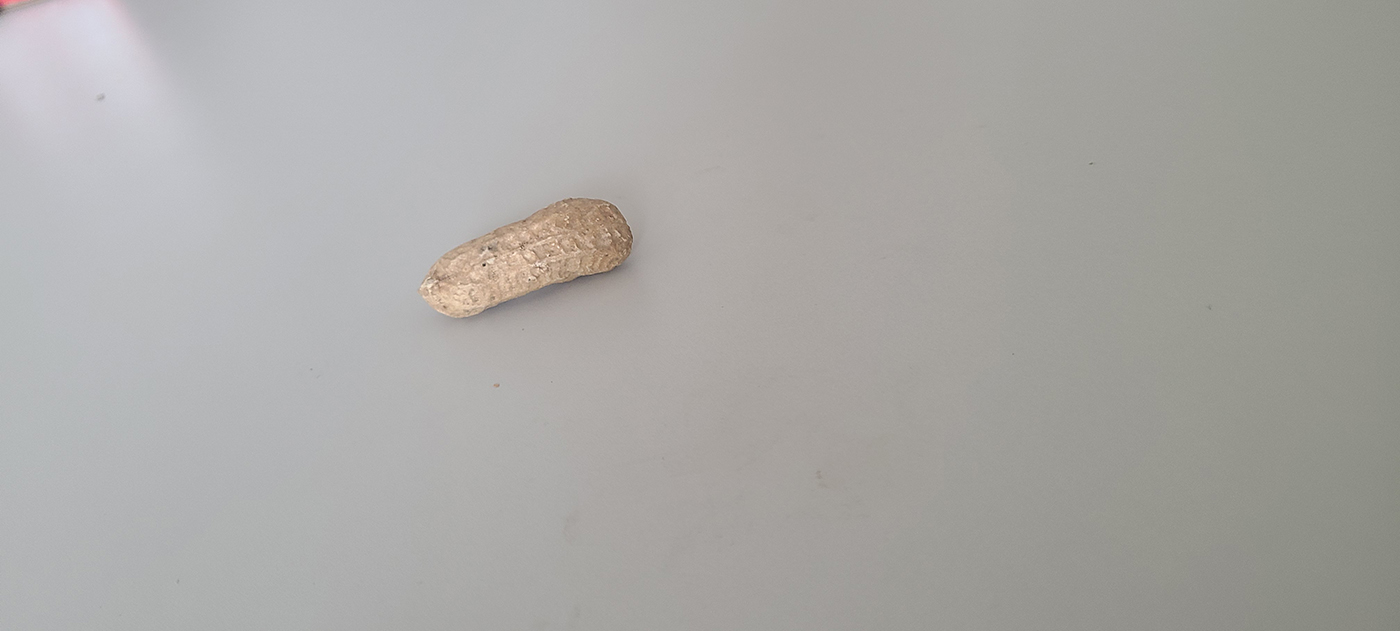h: (421, 194, 635, 317)
